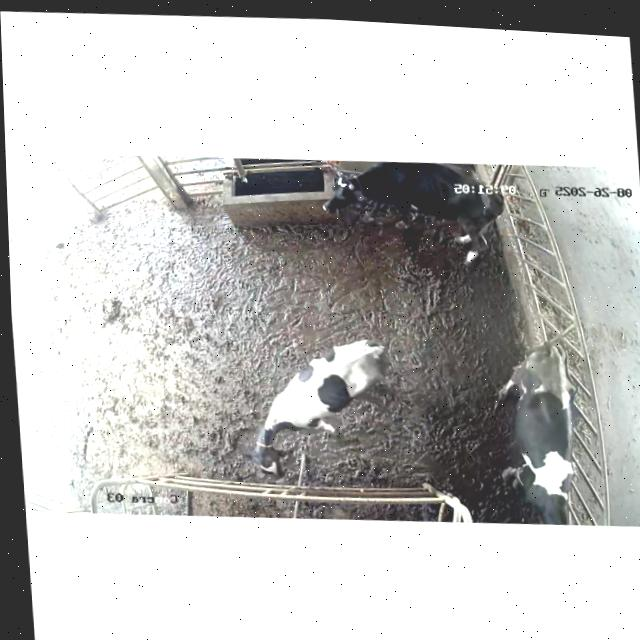stand: (239, 327, 405, 486), (318, 153, 513, 270), (495, 330, 591, 528)
